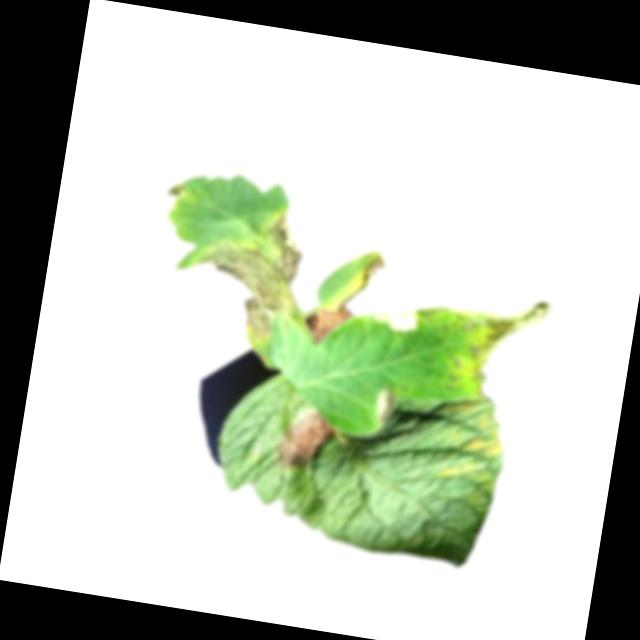Late_blight: (187, 202, 310, 343), (462, 291, 555, 407), (272, 404, 337, 476), (302, 299, 356, 353), (365, 299, 421, 338), (357, 252, 387, 299), (372, 386, 398, 426), (162, 180, 191, 207)
